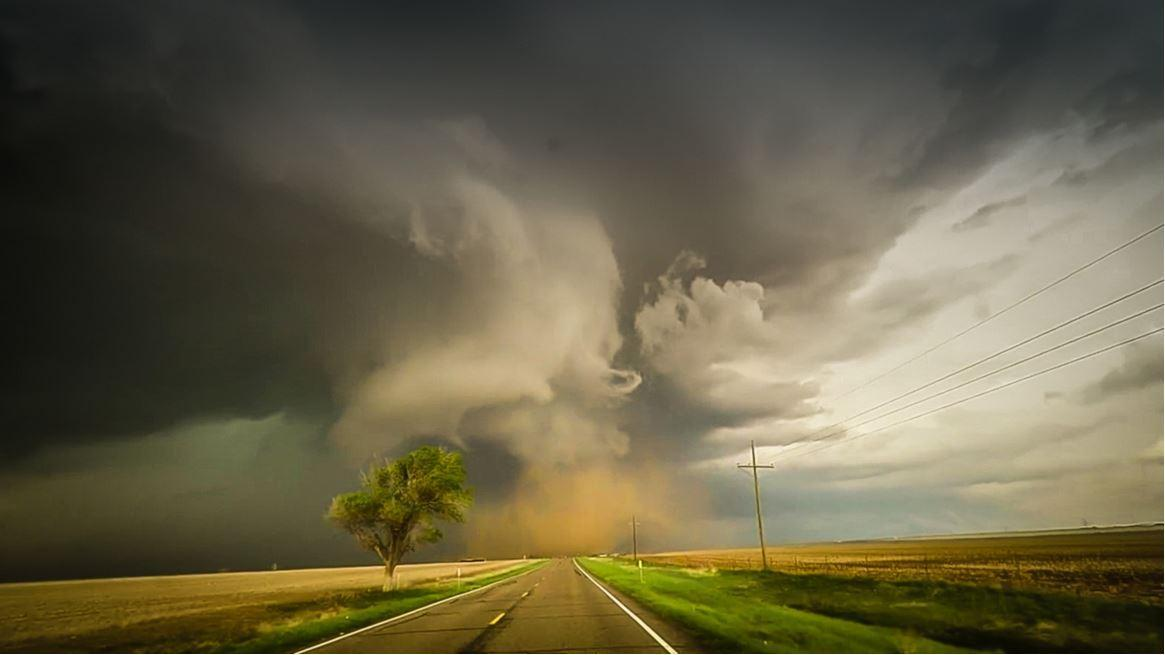cloud: (188, 108, 876, 446)
